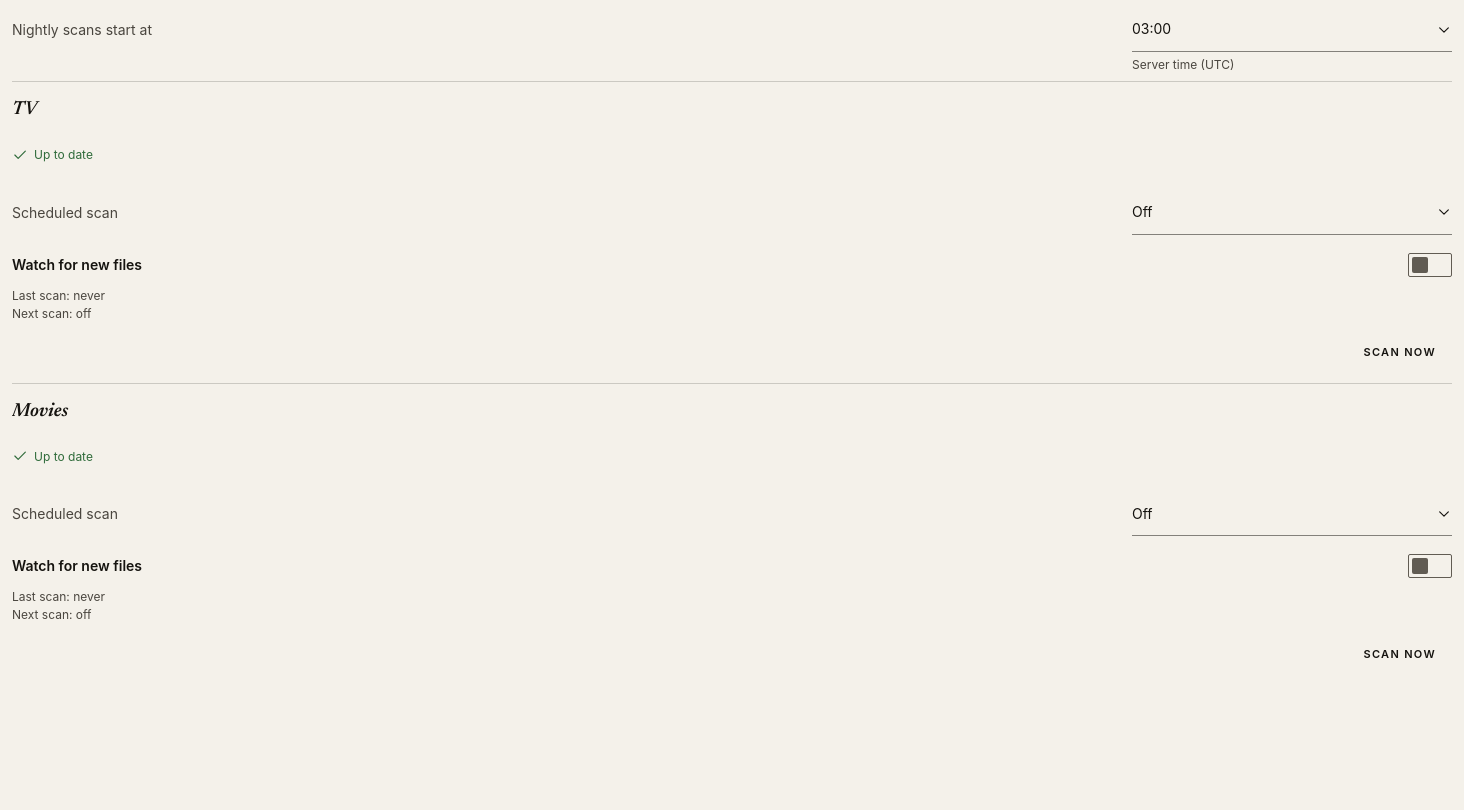
Scenario: LibraryAutomation › a failed save reverts the control and shows the server's message
Expected: the heading "TV" is shown, left=12, top=100, right=37, bottom=119
Click the dropdown named "Scheduled scan" at (1142, 212), box left=1132, top=191, right=1452, bottom=235
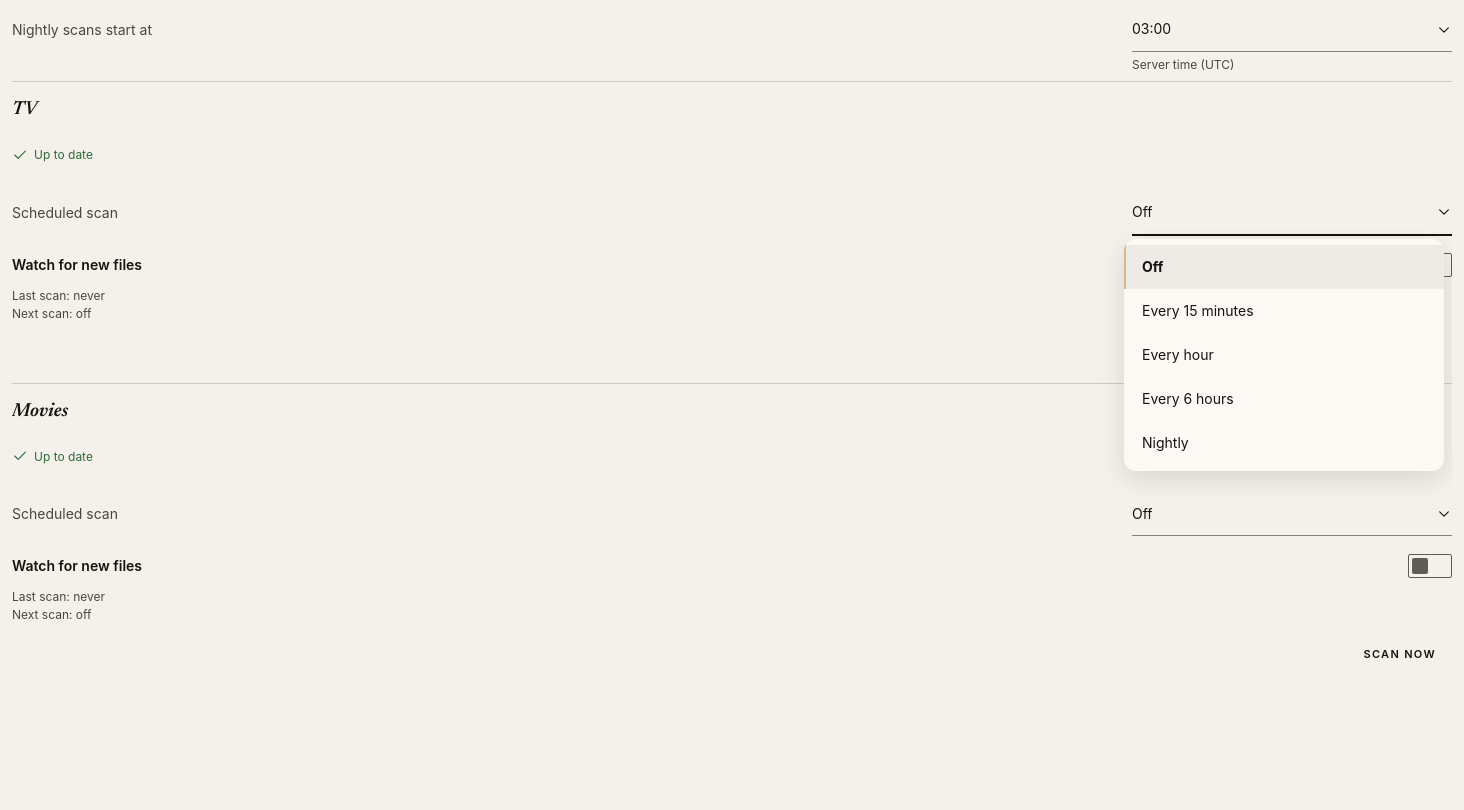
Click the option "Nightly" at (1165, 442), box left=1142, top=434, right=1189, bottom=451
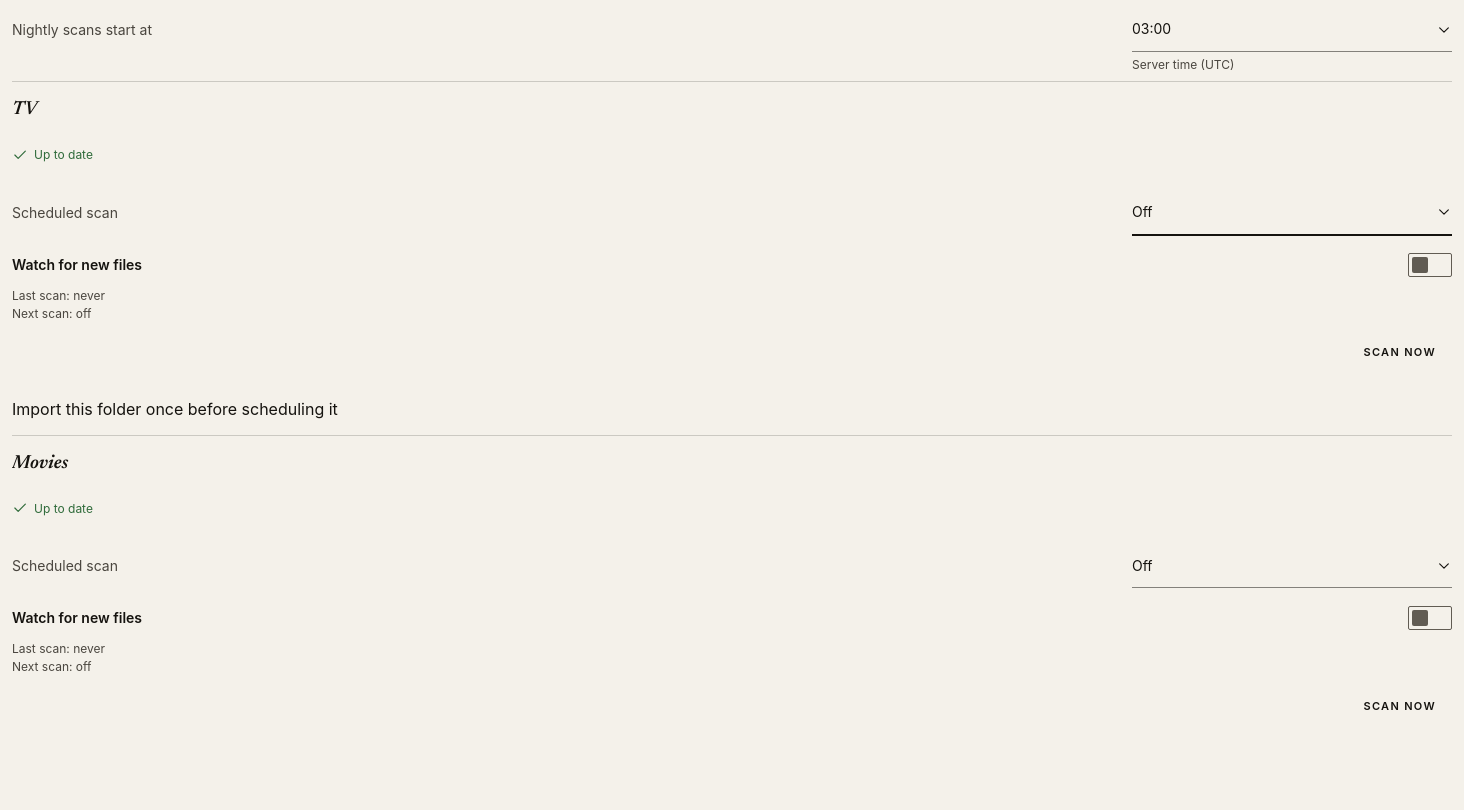
Expected: the dropdown named "Scheduled scan" reads "Off", left=1132, top=191, right=1452, bottom=235
Expected: the text "Import this folder once before scheduling it" is shown, left=12, top=399, right=338, bottom=419
